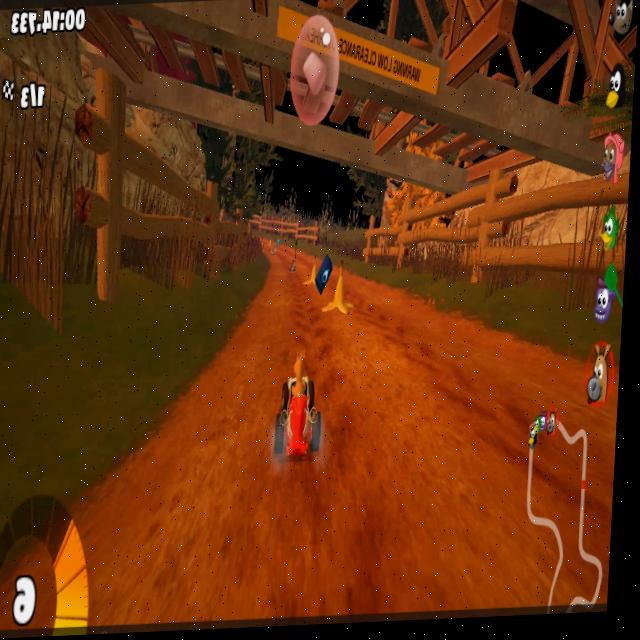enemy_kart: (286, 253, 299, 278), (268, 242, 277, 256)
obstacle: (325, 273, 356, 320)
player_kart: (269, 356, 329, 462)
